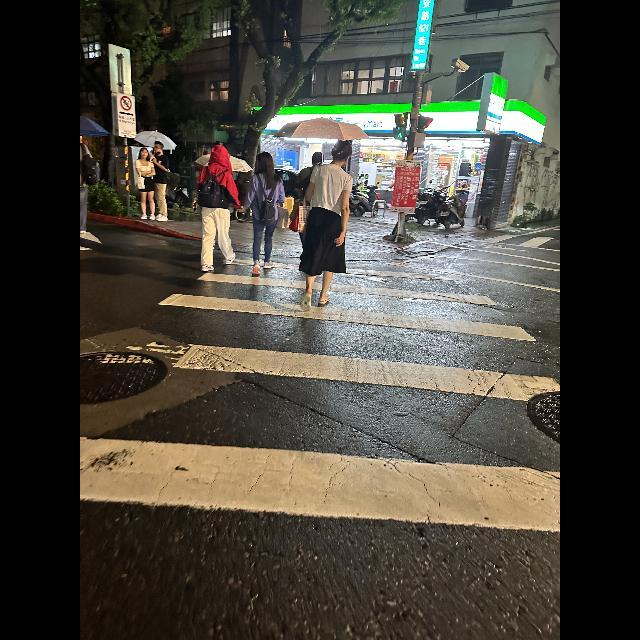sidewalk: (80, 255, 560, 534)
